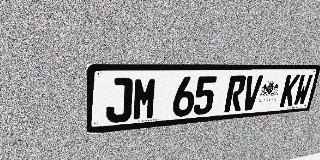5: (193, 76, 217, 115)
6: (172, 76, 197, 117)
J: (106, 78, 133, 124)
K: (279, 74, 300, 107)
M: (132, 77, 158, 121)
R: (224, 75, 247, 112)
V: (241, 75, 263, 111)
W: (292, 74, 313, 106)
